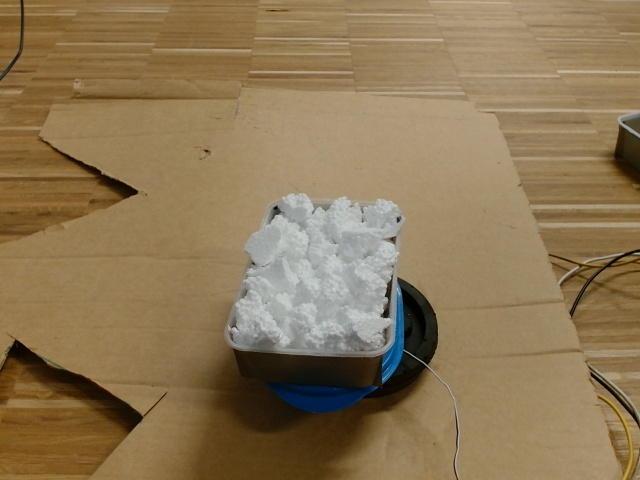Small_full: (224, 191, 408, 367)
